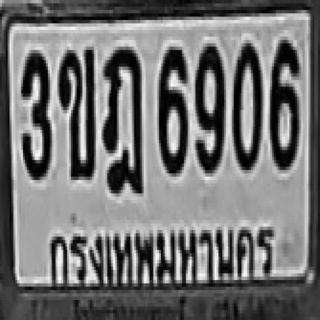A02: (58, 43, 94, 177)
A14: (102, 43, 142, 190)
N00: (232, 40, 261, 167)
N03: (19, 47, 50, 177)
N06: (268, 37, 297, 167), (157, 43, 186, 173)
N09: (194, 40, 222, 170)
P04: (45, 220, 279, 294)
